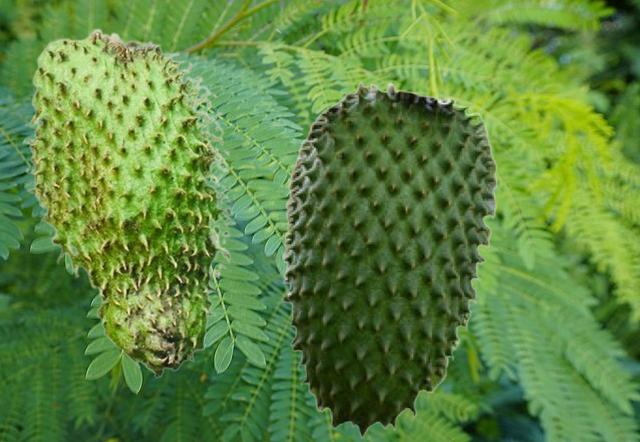guyabano: (281, 81, 497, 437), (24, 27, 234, 378)
